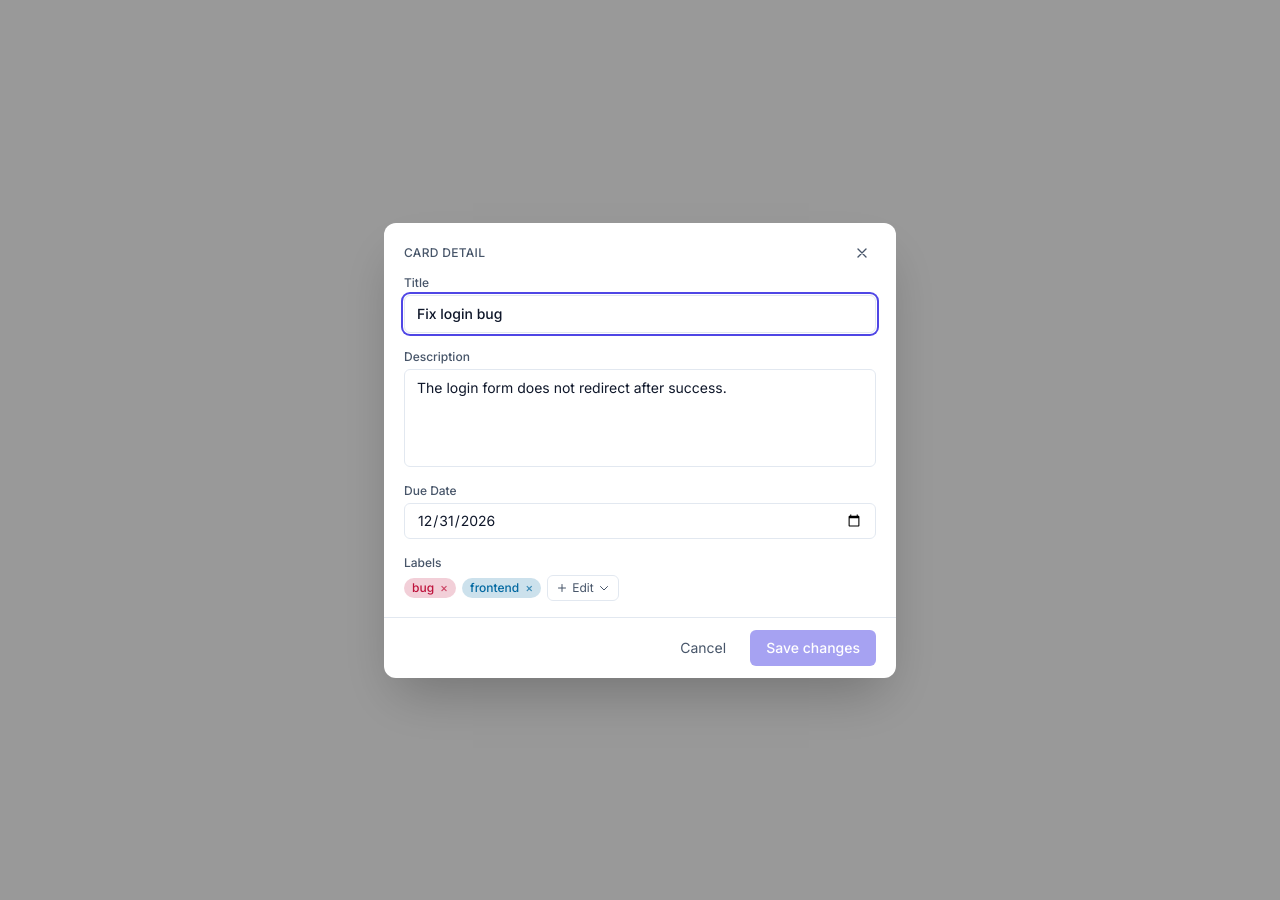
Test: CardDetailModal › keeps modal open and shows inline error when save fails
Step 1. Replace the text in the field showing "Fix login bug" with "Changed title" → (640, 314), box [404,294,876,332]
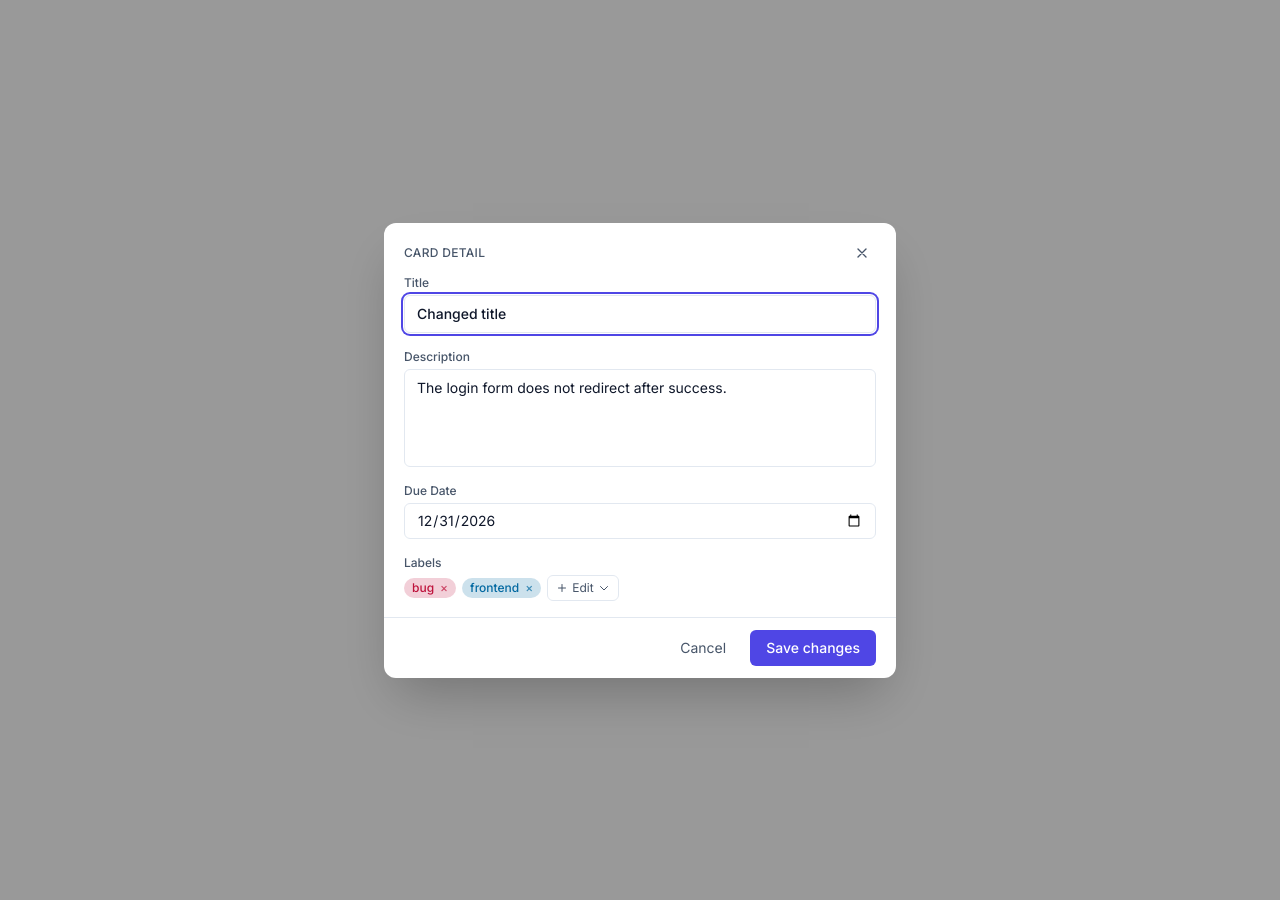
Step 2. Click the button "Save changes" → (813, 648), box [750,630,876,666]
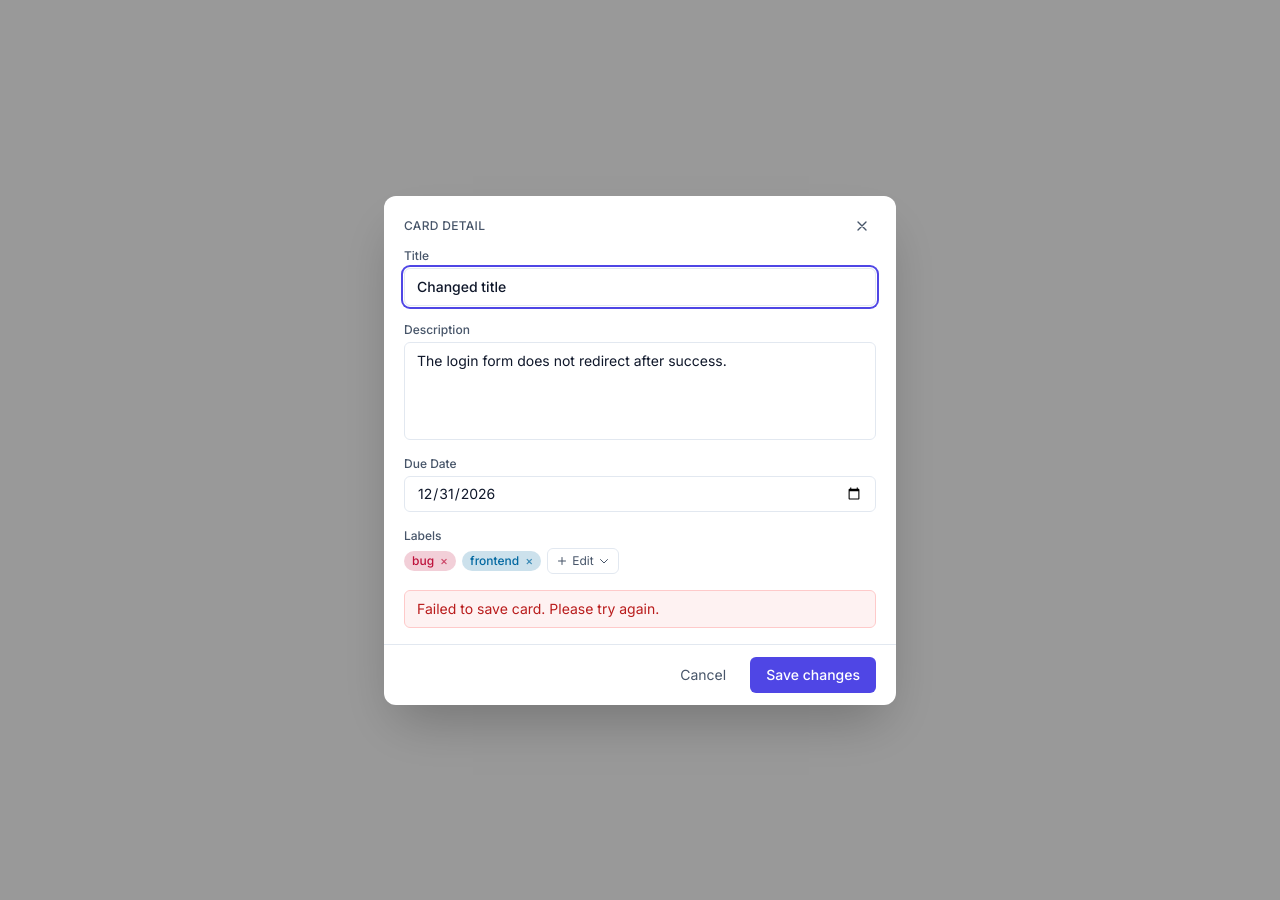
Expected: the message "Failed to save card. Please try again." is shown, [404,590,876,628]
Expected: the message shows "Failed to save", [417,600,659,616]
